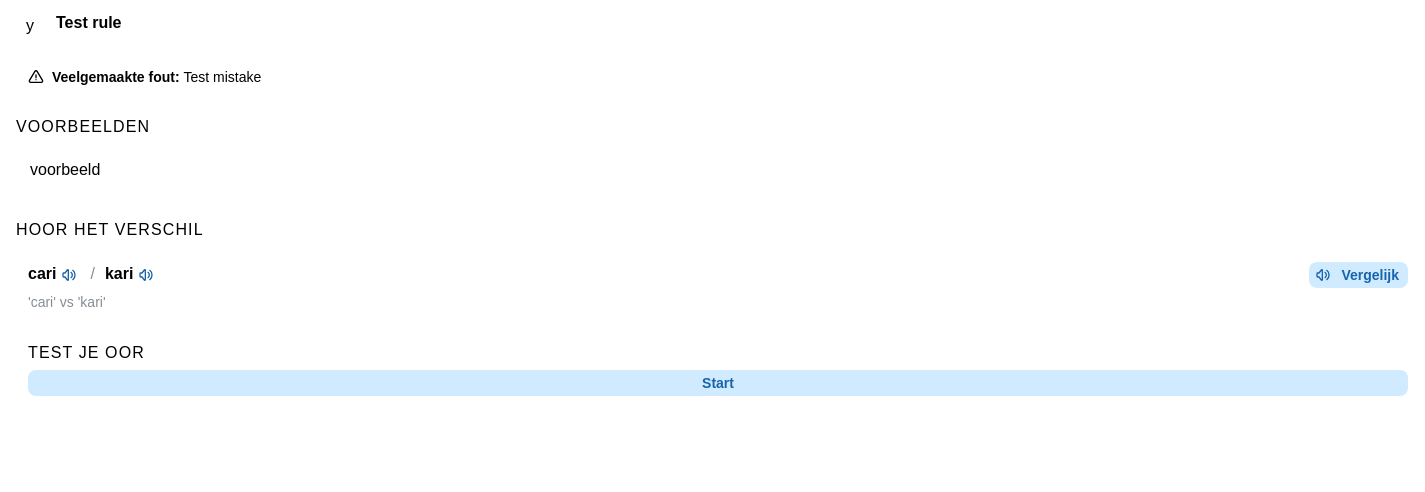
Test case: EarQuiz — "Test je oor" (Task U-C) › shows correct feedback, increments the streak, and disables both options
Click the button "Start". click: (718, 383)
box: x1=28 y1=370 x2=1408 y2=396
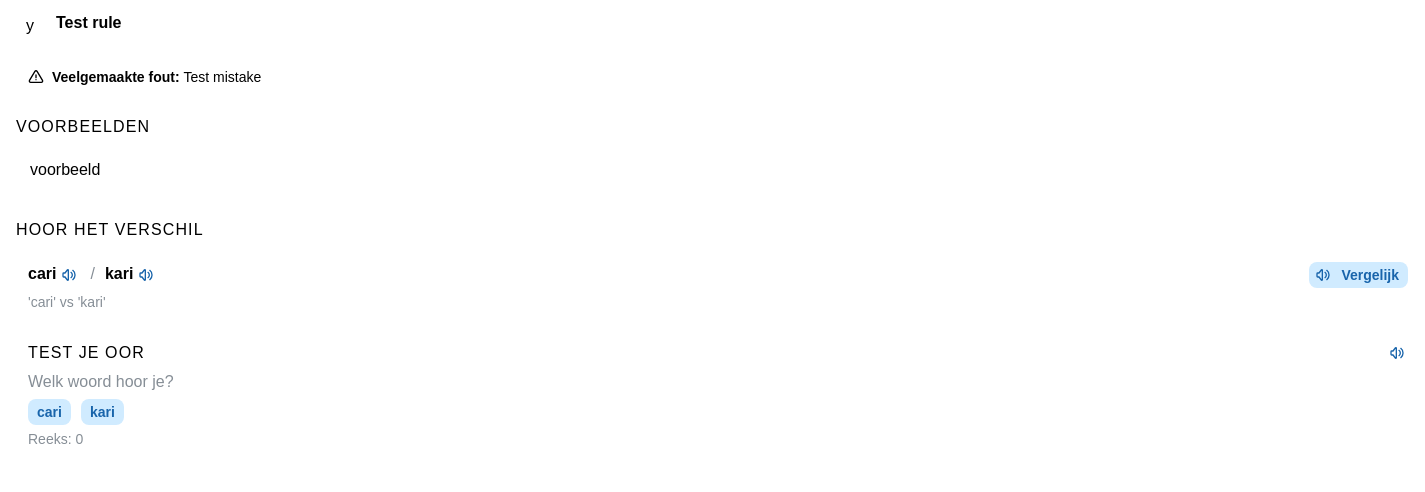
Click the button "cari". click: (49, 412)
box: x1=28 y1=399 x2=71 y2=425
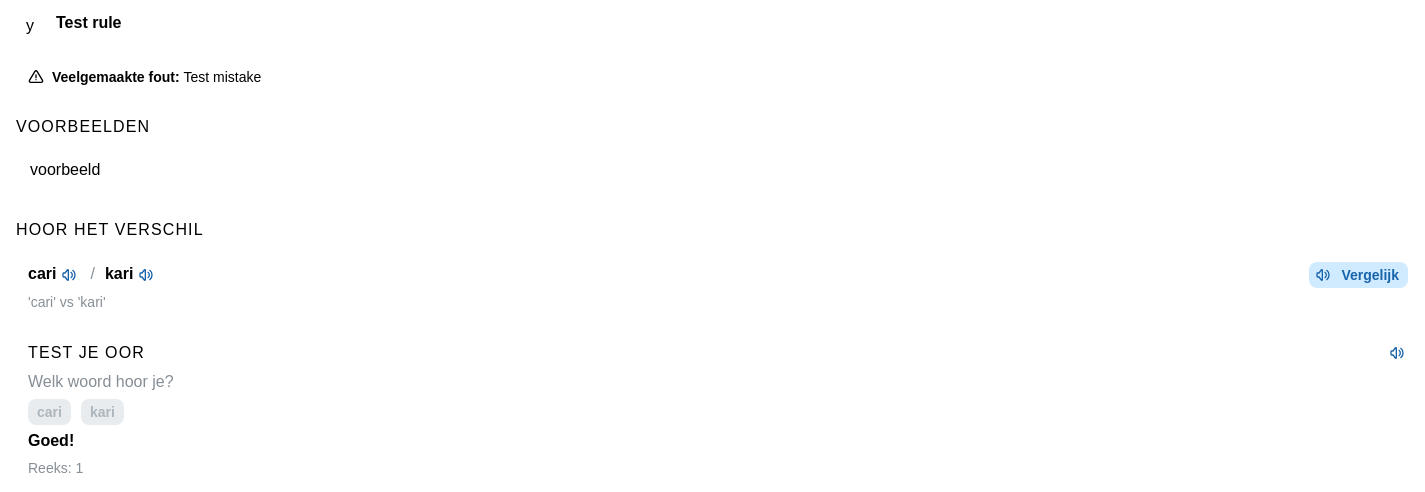
expect the text "Goed!" is shown: met, box x1=28 y1=432 x2=74 y2=449
expect the text "Reeks: 1" is shown: met, box x1=28 y1=460 x2=83 y2=476
expect the button "cari" is disabled: met, box x1=28 y1=399 x2=71 y2=425
